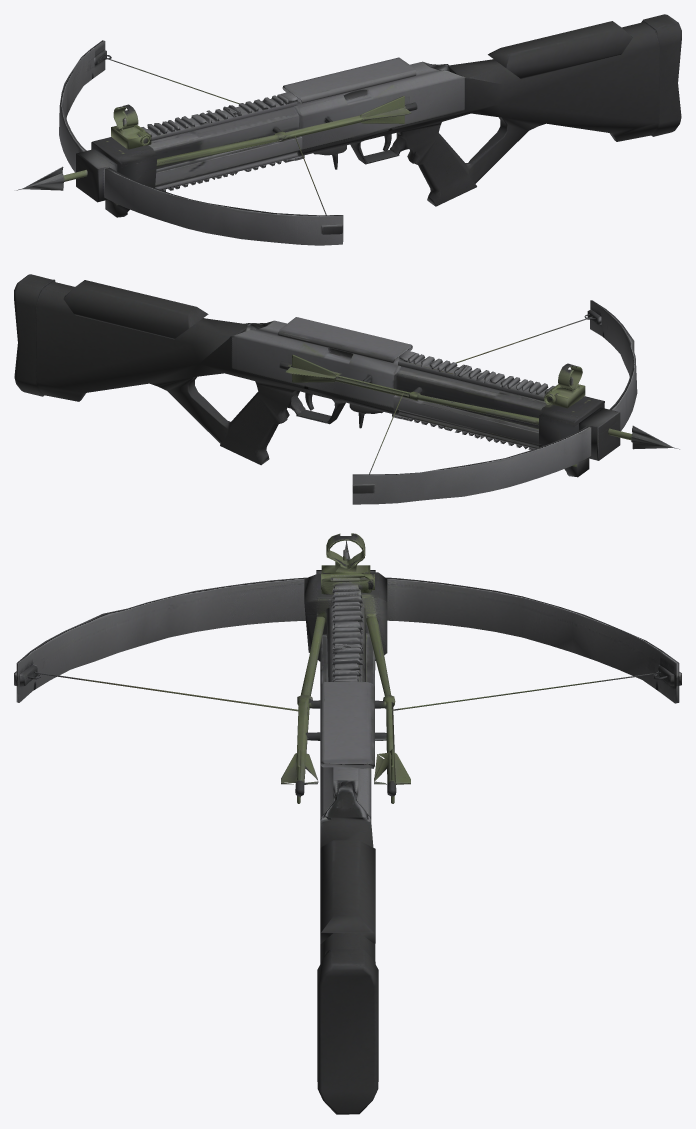
File: dmr_stinger.glb
The picture shows the model from 3 angles, top to bottom: view 1: azimuth 30°, elevation 25°; view 2: azimuth 150°, elevation 25°; view 3: azimuth 270°, elevation 25°; orthographic projection. The views are drawn at different scales.
Size of the model in its own units: 0.9604 by 0.2373 by 0.6099.
Materials: 1 (1 with a texture image).
